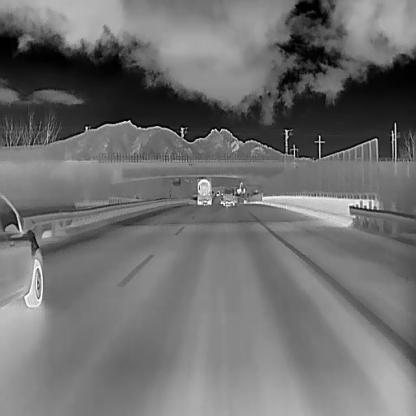car: (0, 190, 43, 309), (196, 177, 211, 206), (222, 186, 235, 206), (215, 189, 220, 196)
